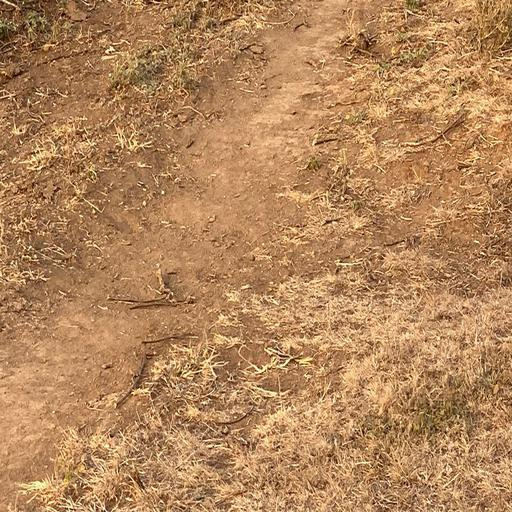vehicle_track: (0, 0, 403, 512)
